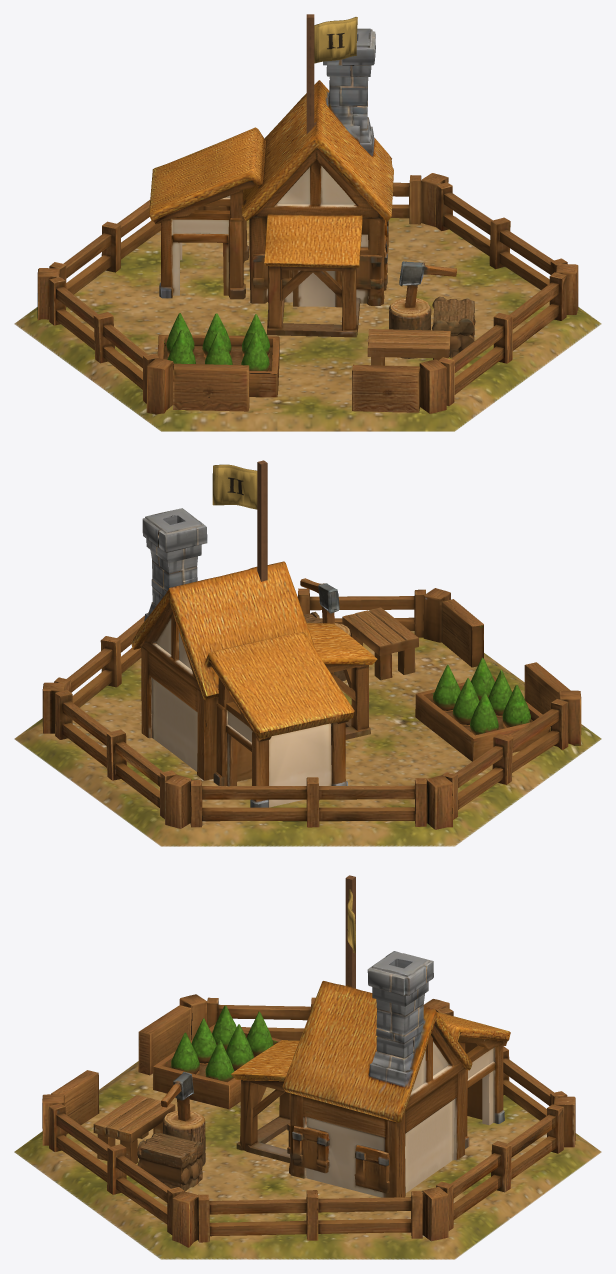
Rendered from workers-hut-2.glb.
3 views of the same model, one above another, from view 1: azimuth 30°, elevation 25°; view 2: azimuth 150°, elevation 25°; view 3: azimuth 270°, elevation 25° (orthographic).
Parts seen in each view (by area): view 1: architecture, ground, tier-banner; view 2: architecture, ground, tier-banner; view 3: architecture, ground.
Part boxes in pixels (x1,y1,x2,y2): architecture: [37, 14, 578, 414]; ground: [14, 216, 601, 431]; tier-banner: [314, 17, 357, 63]; architecture: [42, 460, 581, 829]; ground: [14, 631, 601, 846]; tier-banner: [212, 464, 257, 509]; architecture: [42, 875, 575, 1247]; ground: [14, 1061, 601, 1259].
Size of the model in its own units: 1.59 by 0.9884 by 1.84.
3 materials, 3 textured.
